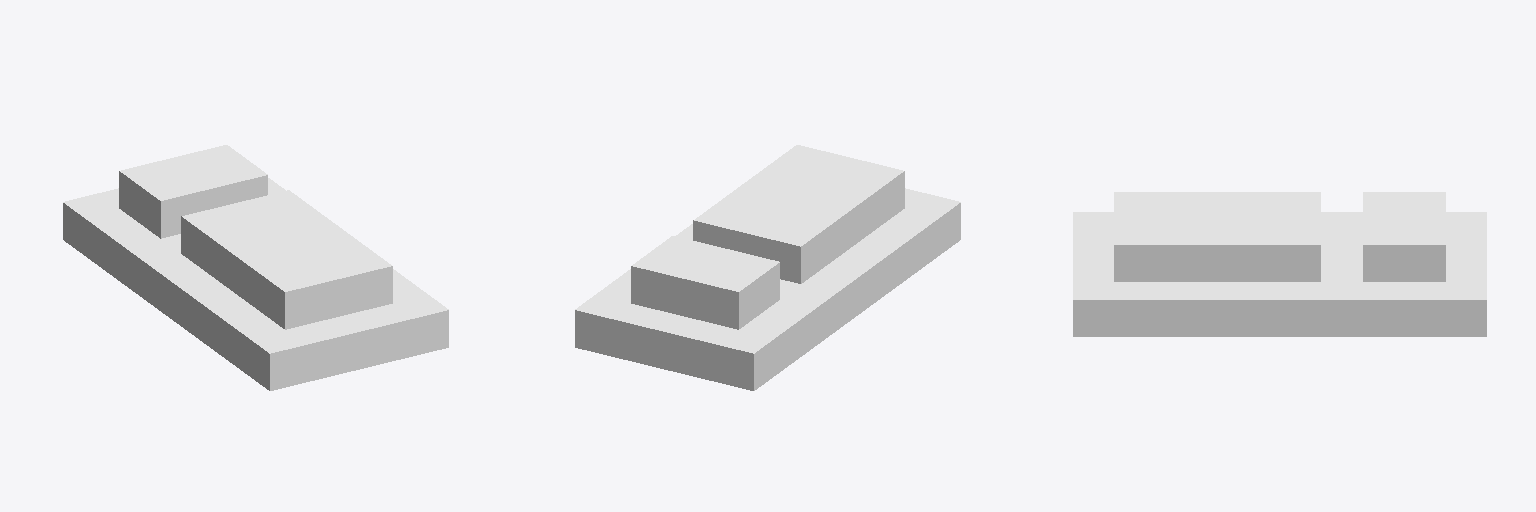
The model's file is buttonShape_about.obj.
3 views of the same model, side by side, from view 1: azimuth 30°, elevation 25°; view 2: azimuth 150°, elevation 25°; view 3: azimuth 270°, elevation 25° (orthographic).
Bounding box in the file's own units: 5 × 2 × 10.